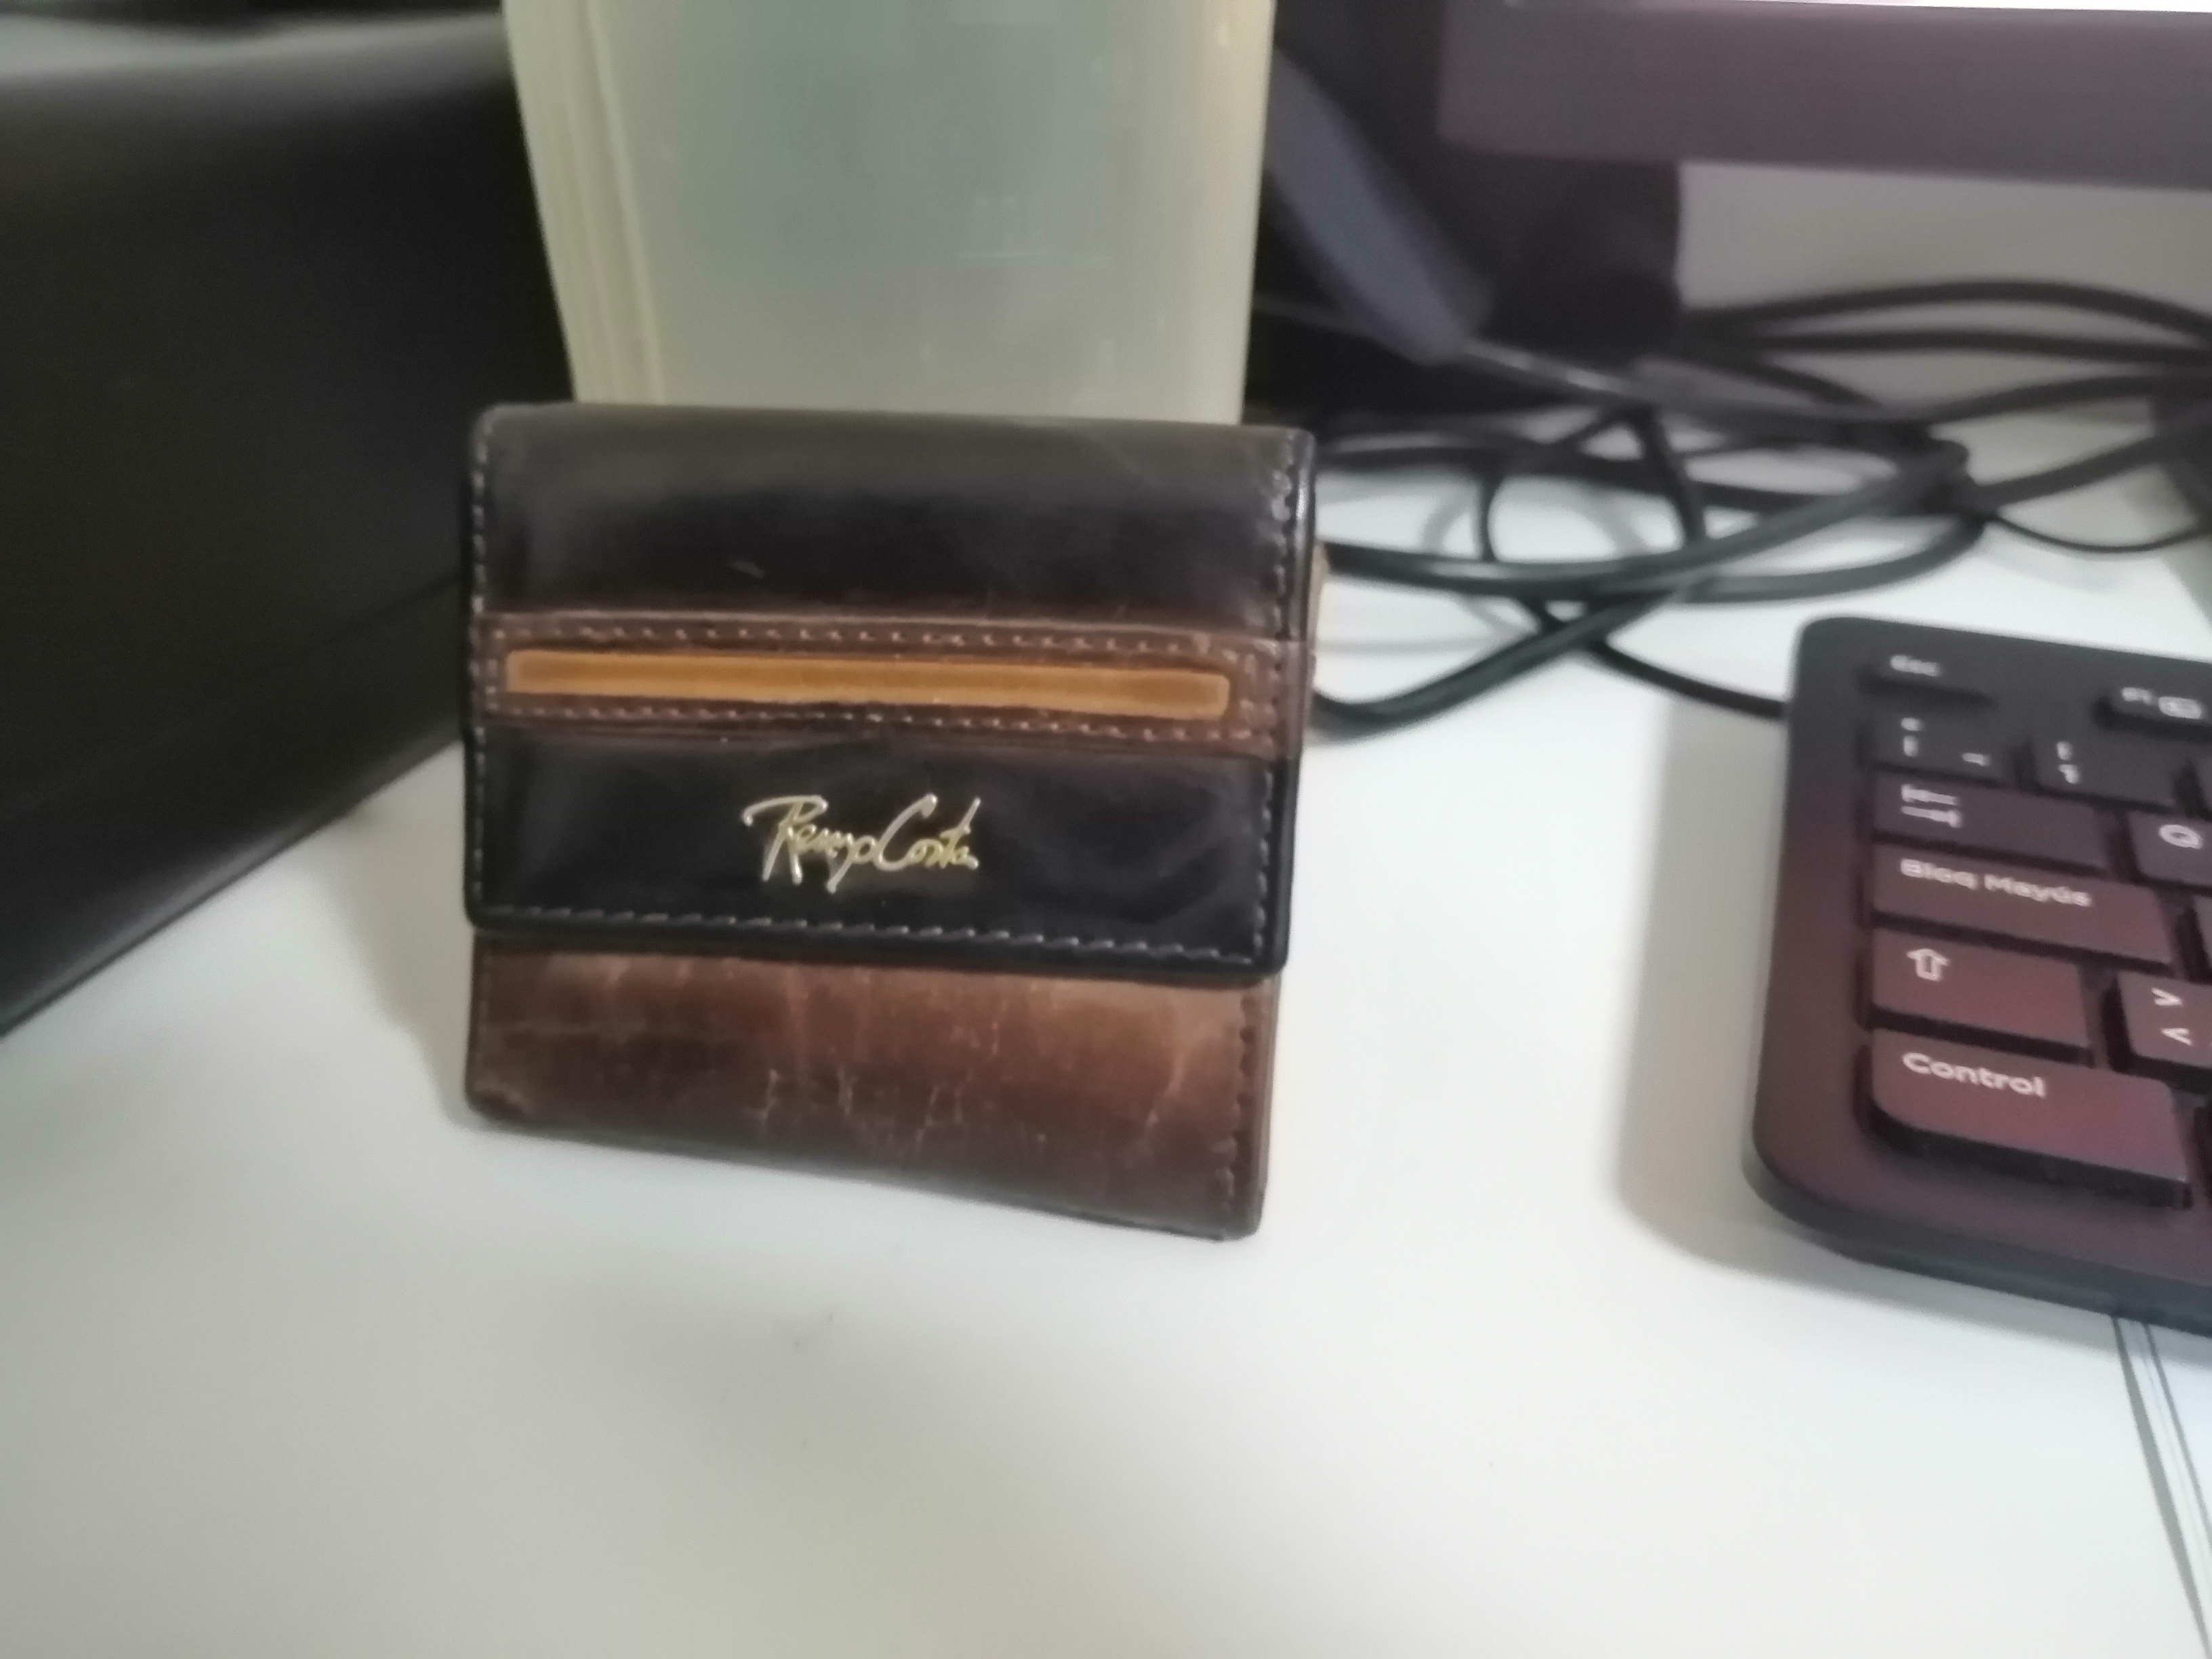monedero: (418, 366, 1341, 1283)
